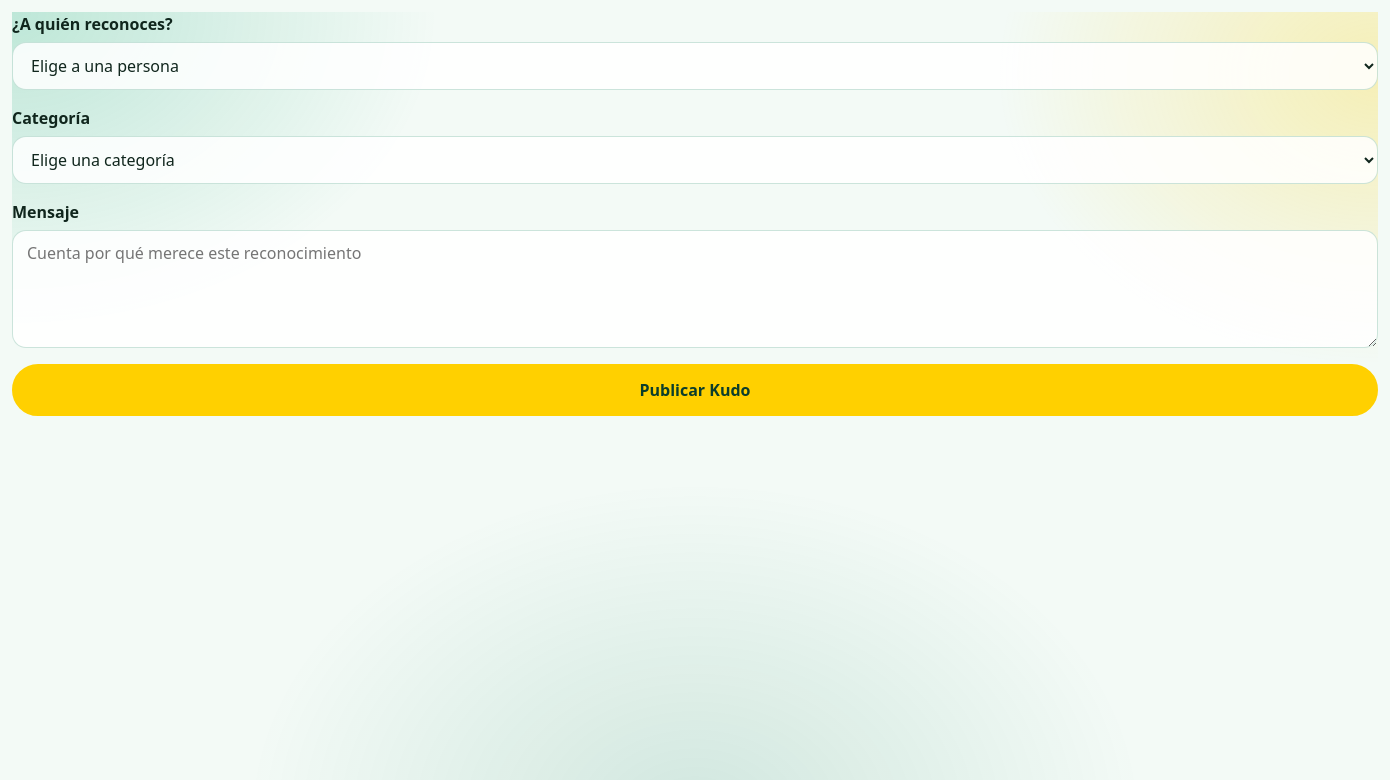
FormularioDePublicacion › explica el rechazo AUTOR_NO_DISPONIBLE de la API
Select "Beto Estudiante" in the dropdown labelled "¿A quién reconoces?" at point(695, 66), box [12,42,1378,90]
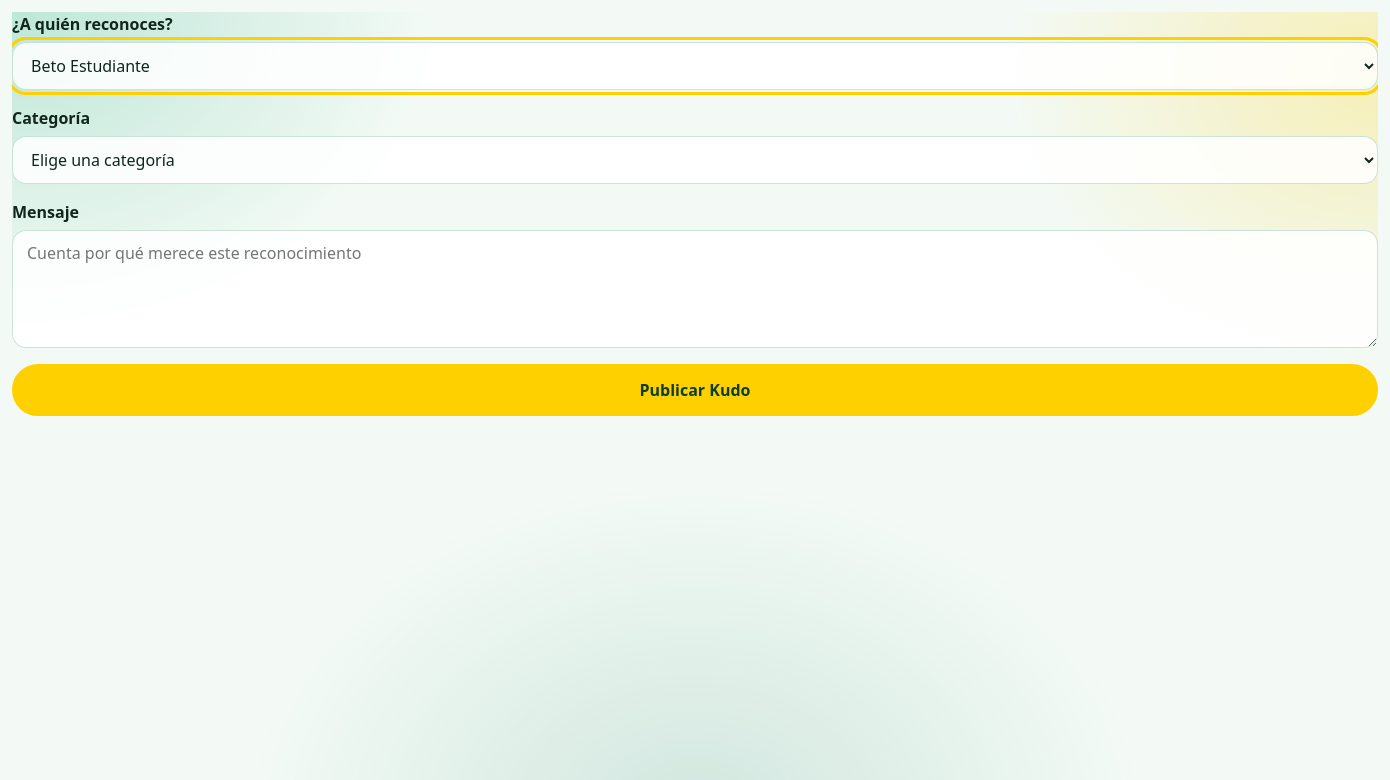
Select "Innovación" in the dropdown labelled "Categoría" at point(695, 160), box [12,136,1378,184]
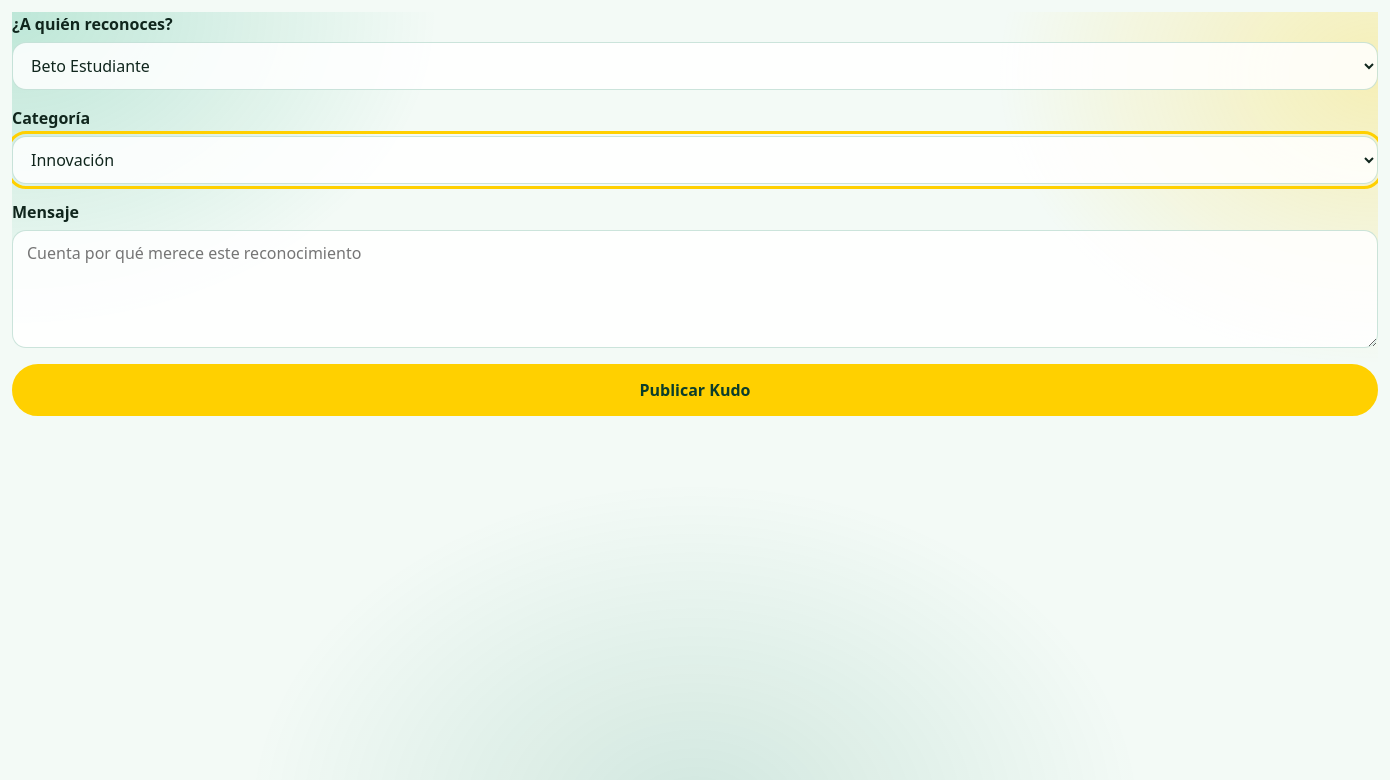
Type "Gracias por todo" into the text box labelled "Mensaje" at point(695, 289), box [12,230,1378,348]
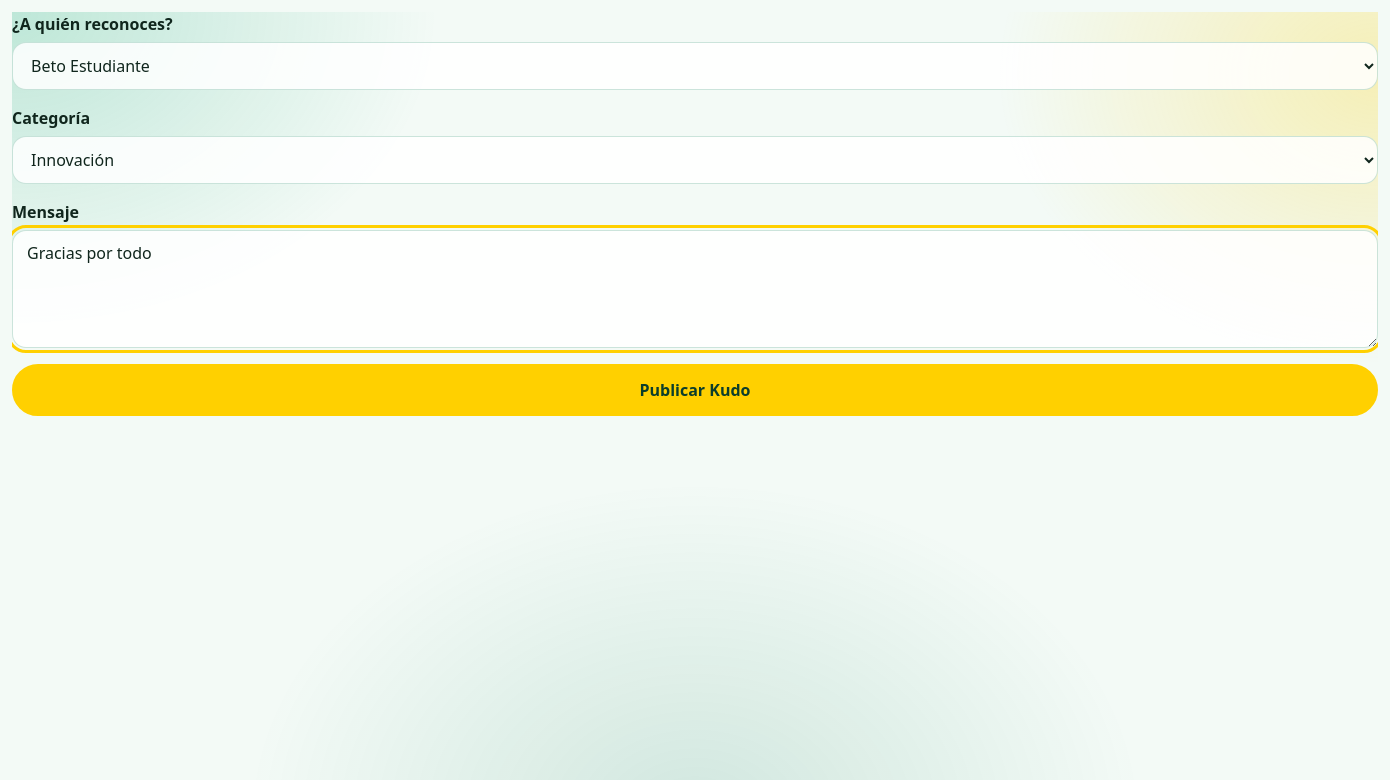
Click the button "Publicar Kudo" at point(695, 390), box [12,364,1378,416]
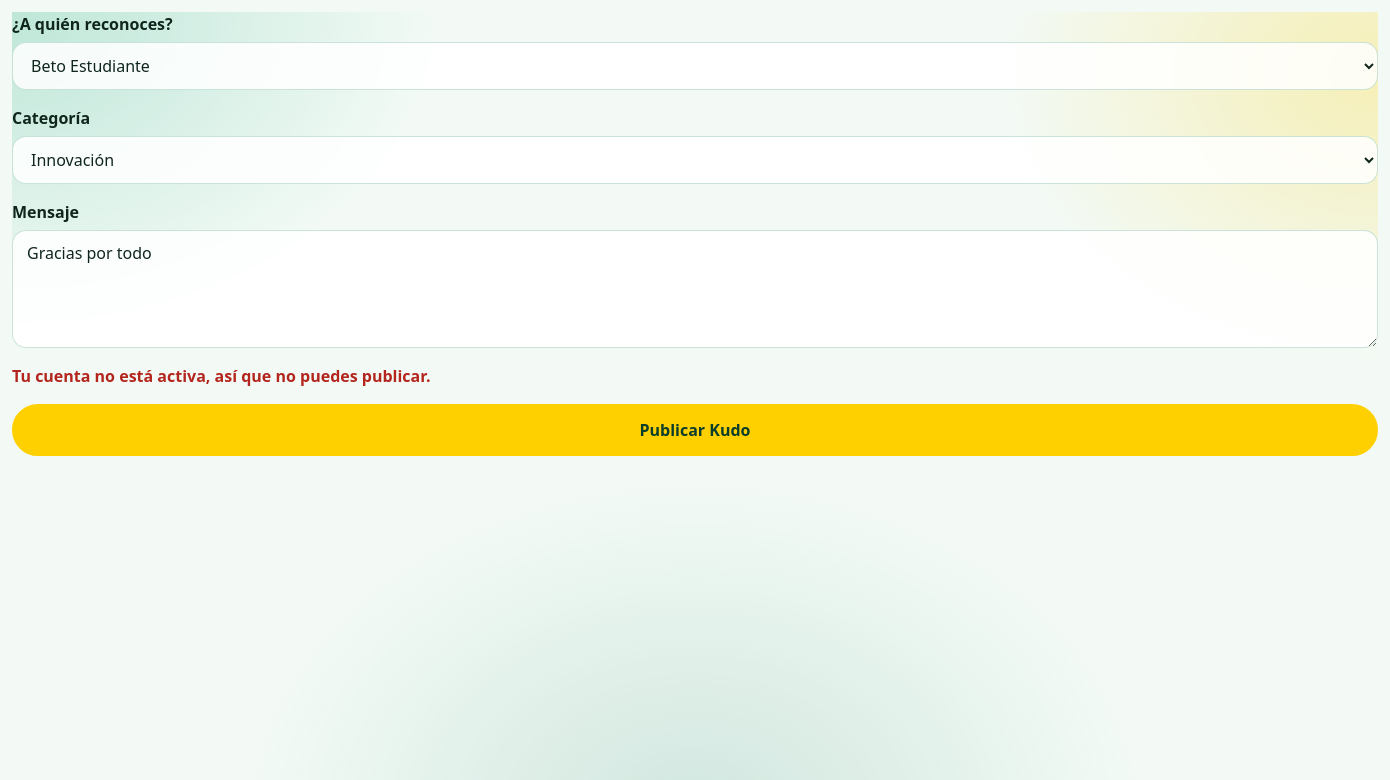
Expected: the message shows "Tu cuenta no está activa", [12,365,430,387]
